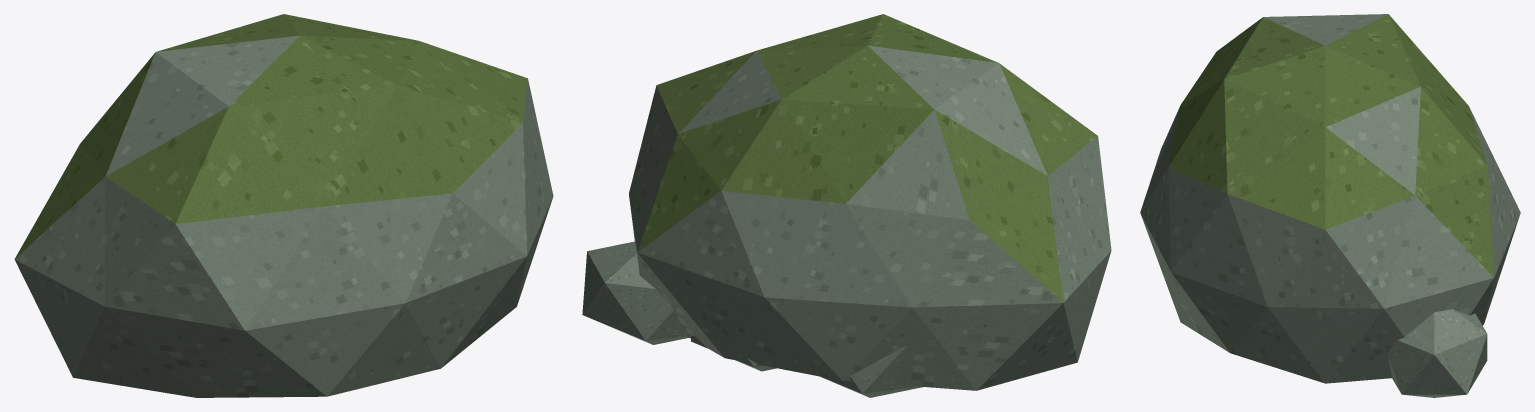
Rendered from rock.glb.
The picture shows the model from 3 angles, left to right: view 1: azimuth 30°, elevation 25°; view 2: azimuth 150°, elevation 25°; view 3: azimuth 270°, elevation 25°; orthographic projection. The views are drawn at different scales.
Visible parts, largest first — view 1: WeatheredRock; view 2: WeatheredRock; view 3: WeatheredRock.
Boxes of the visible parts, x1,y1,x2,y2 form: WeatheredRock: (14, 14, 553, 397); WeatheredRock: (582, 14, 1111, 397); WeatheredRock: (1140, 14, 1520, 397).
Bounding box in the file's own units: 1.59 × 0.9908 × 1.22.
Materials: 2 (2 with a texture image).
